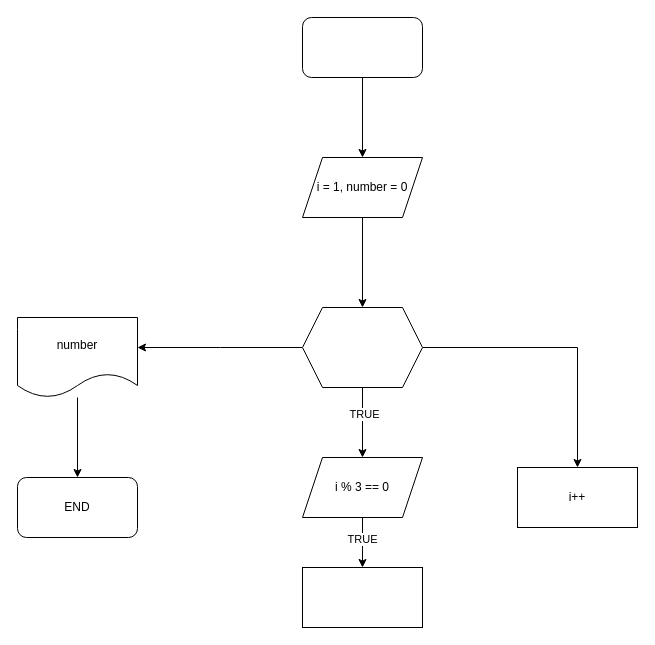
The diagram is 655 pixels wide and 645 high, and some of its shapes have lost their labels. Each missing label, with the centre of its shape:
"i <= 40" goes at point 362,347.
"number++" goes at point 362,597.
"START" goes at point 362,47.
